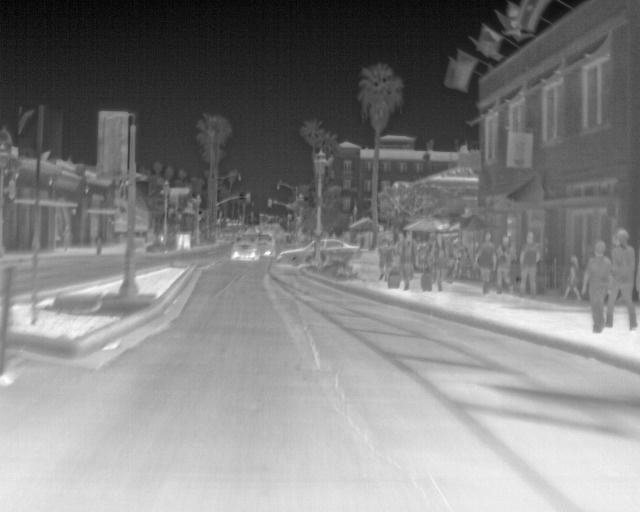bicycle: (276, 241, 314, 269), (322, 240, 358, 266), (233, 237, 259, 263), (252, 232, 272, 260)
empty: (584, 239, 618, 331), (609, 227, 639, 330), (515, 232, 545, 297), (475, 233, 498, 297), (493, 234, 516, 295), (561, 255, 587, 305), (402, 229, 419, 285), (430, 245, 444, 288), (60, 225, 73, 253)
